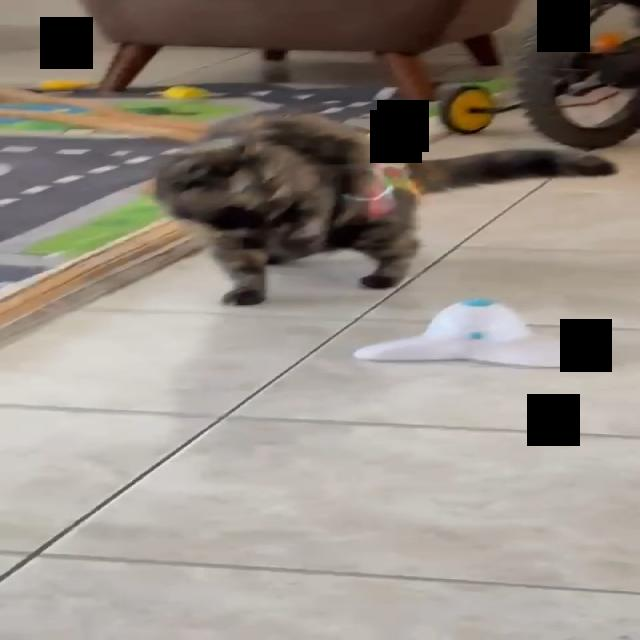authorized: (150, 108, 618, 306)
